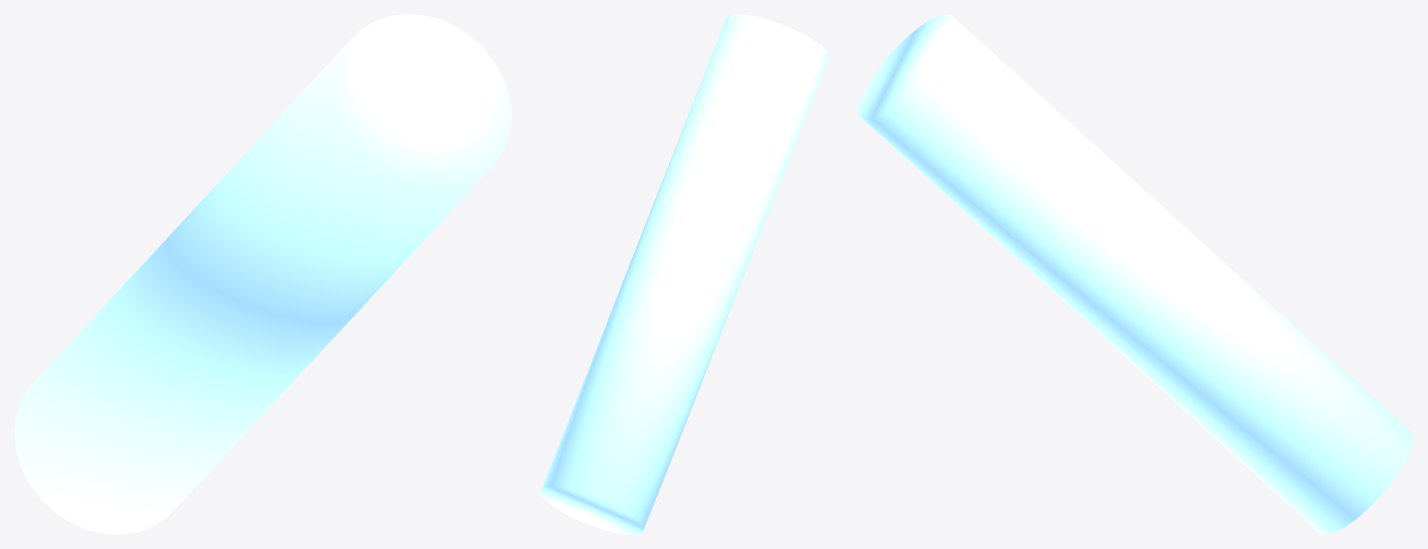
File: SUV_HotV_Stainless_Downpipe_L.glb
3 views of the same model, side by side, from view 1: azimuth 30°, elevation 25°; view 2: azimuth 150°, elevation 25°; view 3: azimuth 270°, elevation 25° (orthographic). The views are drawn at different scales.
Parts seen in each view (by area): view 1: SUV_HotV_Stainless_Downpipe_L; view 2: SUV_HotV_Stainless_Downpipe_L; view 3: SUV_HotV_Stainless_Downpipe_L.
Part boxes in pixels (x1,y1,x2,y2): SUV_HotV_Stainless_Downpipe_L: (14,14,511,534); SUV_HotV_Stainless_Downpipe_L: (540,14,829,534); SUV_HotV_Stainless_Downpipe_L: (858,14,1413,534).
Size of the model in its own units: 0.076 by 0.3083 by 0.3083.
